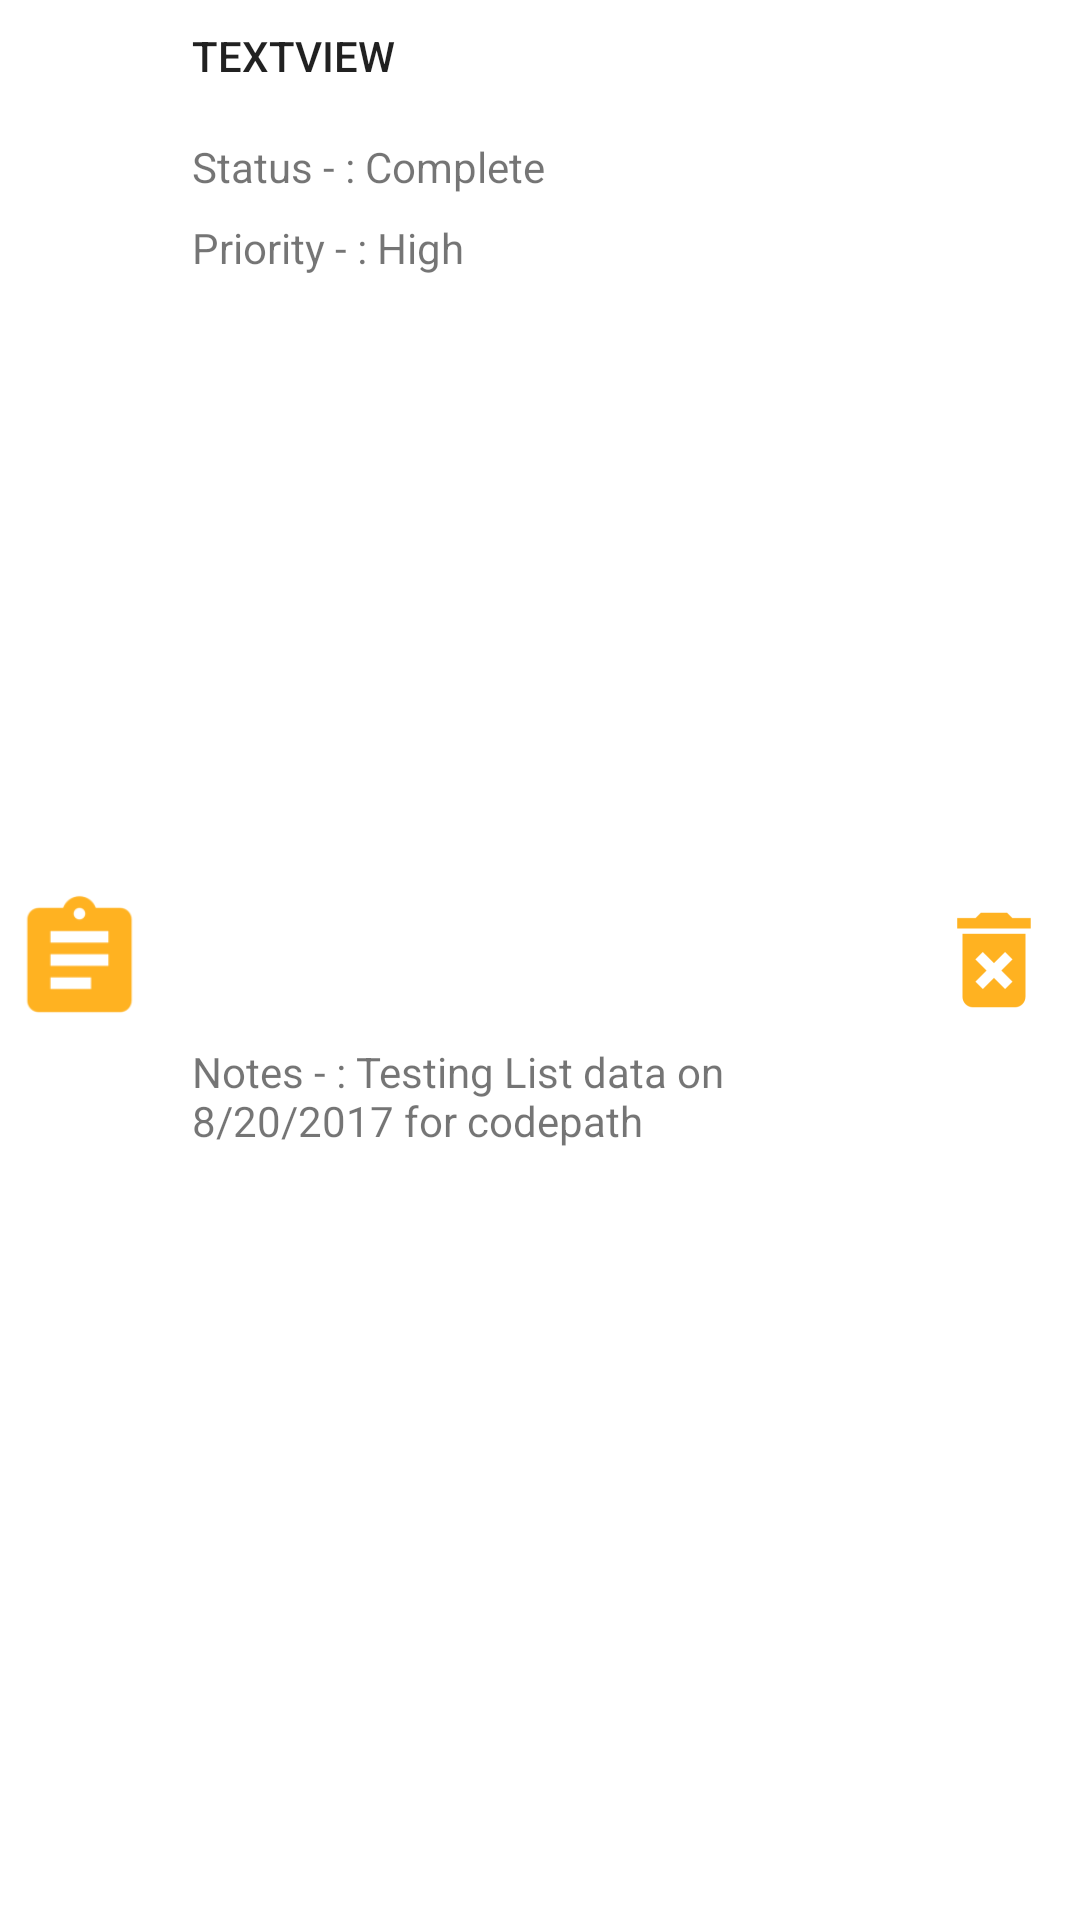

Screen size 1080w x 1920h. Icon name, then its box in pixels as detection(x1, y1, x2, y2):
delete: detection(957, 912, 1031, 1008)
to do: detection(26, 896, 133, 1013)
